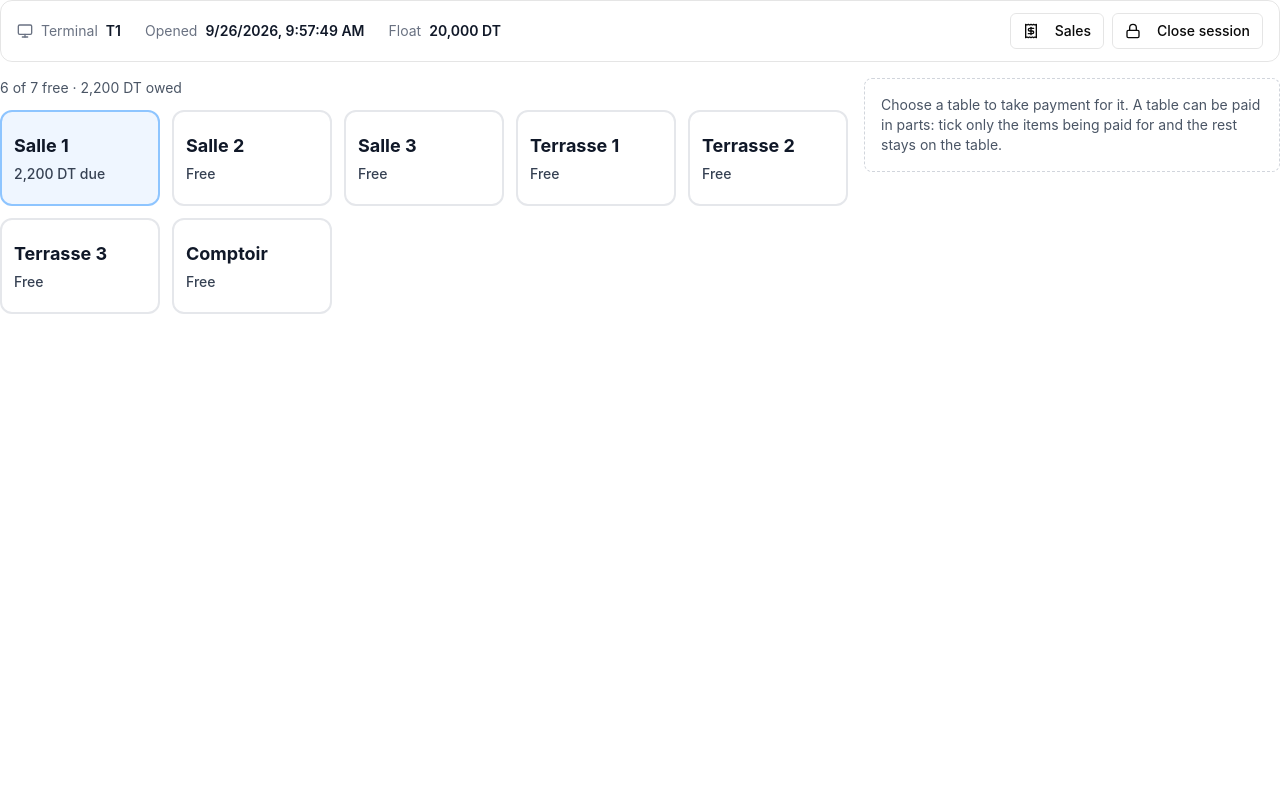
Test: paying a table › does not offer to cancel a table once part of it is paid
Click the button "Salle 1 2,200 DT due": (80, 158) [0,110,160,206]
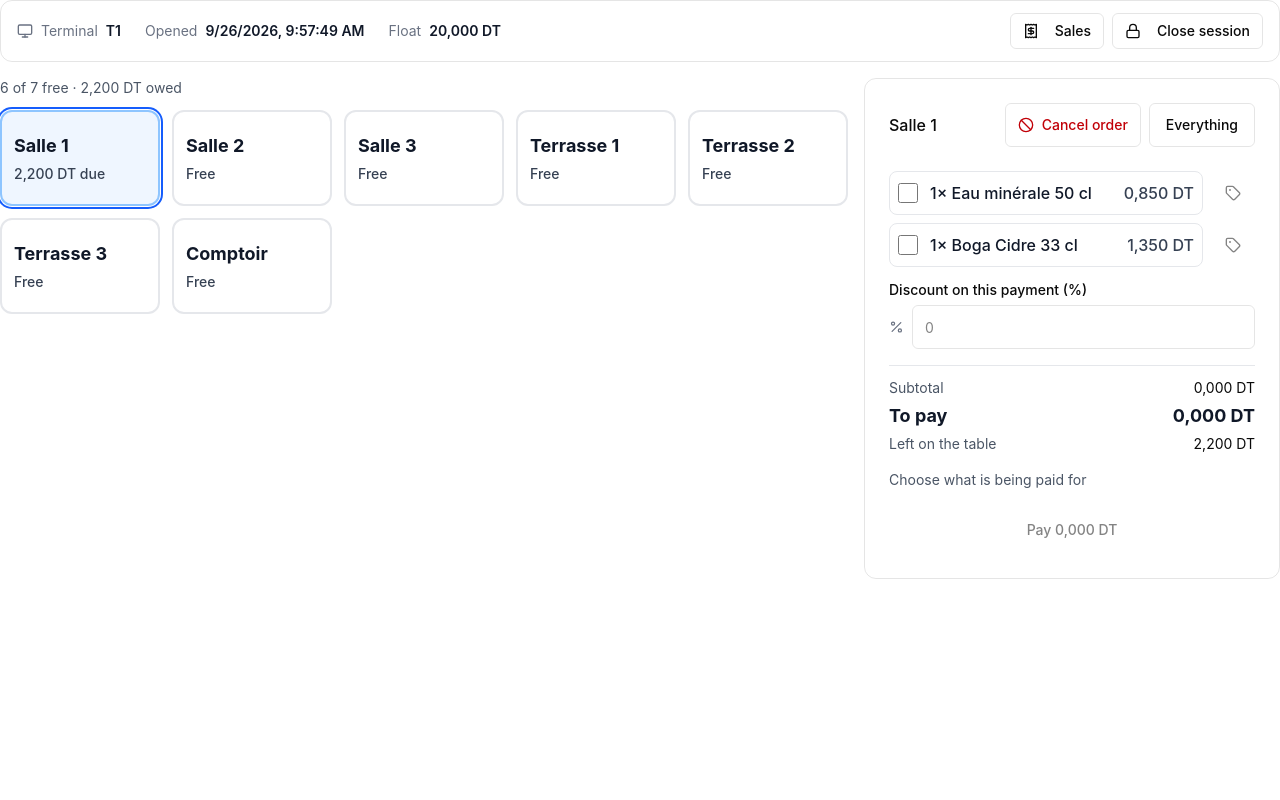
Check: the button "Cancel order" is shown, box [1005,103,1141,147]
Click the checkbox labelled "1× Eau minérale 50 cl 0,850 DT": (908, 193) [898,183,918,203]
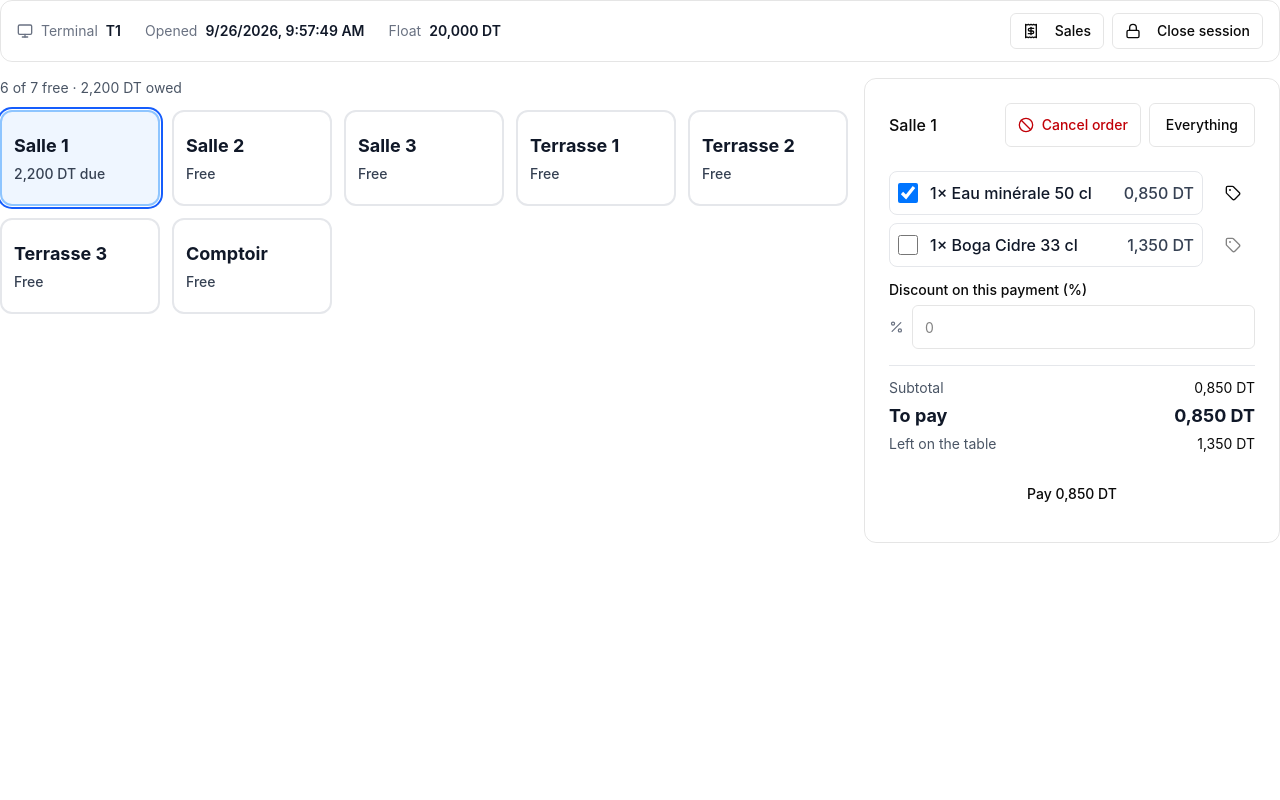
Click the button "Pay 0,850 DT": (1072, 494) [889,470,1255,518]
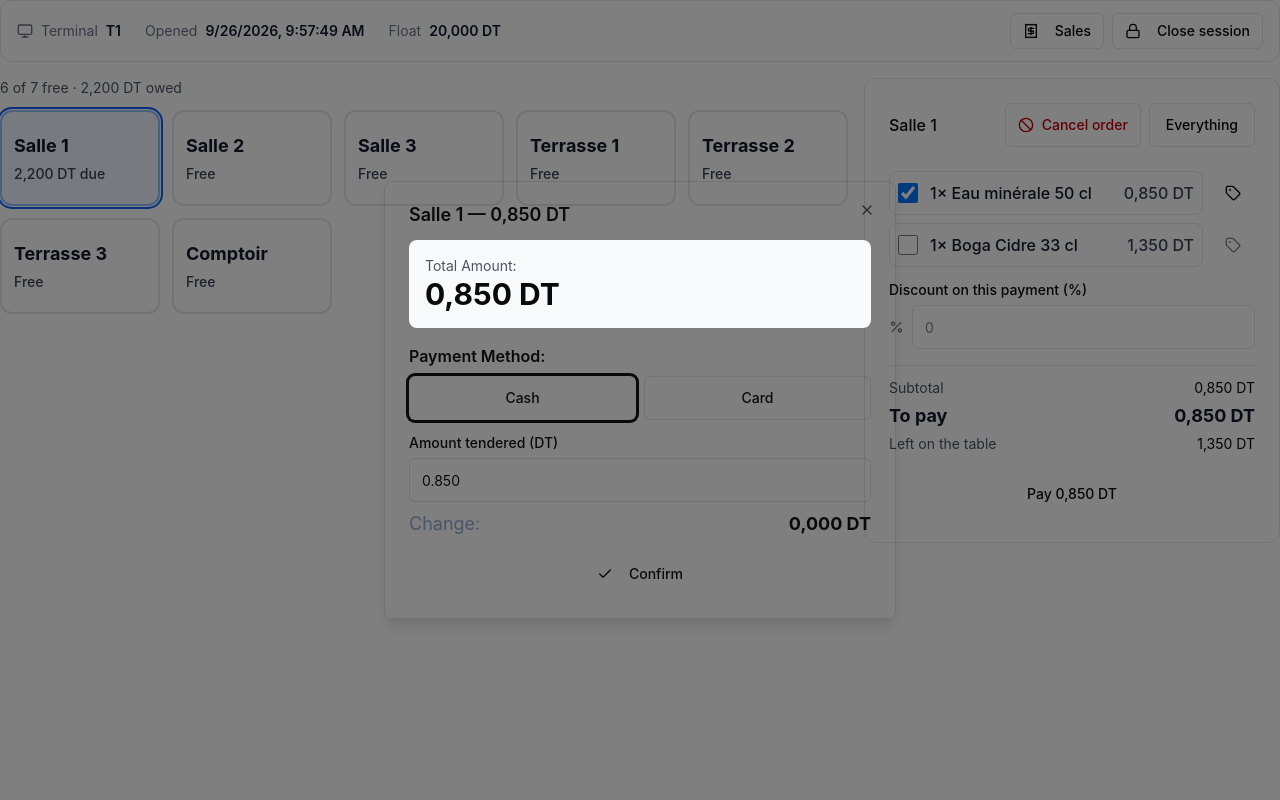
Click the button "Confirm": (640, 574) [409,554,871,594]
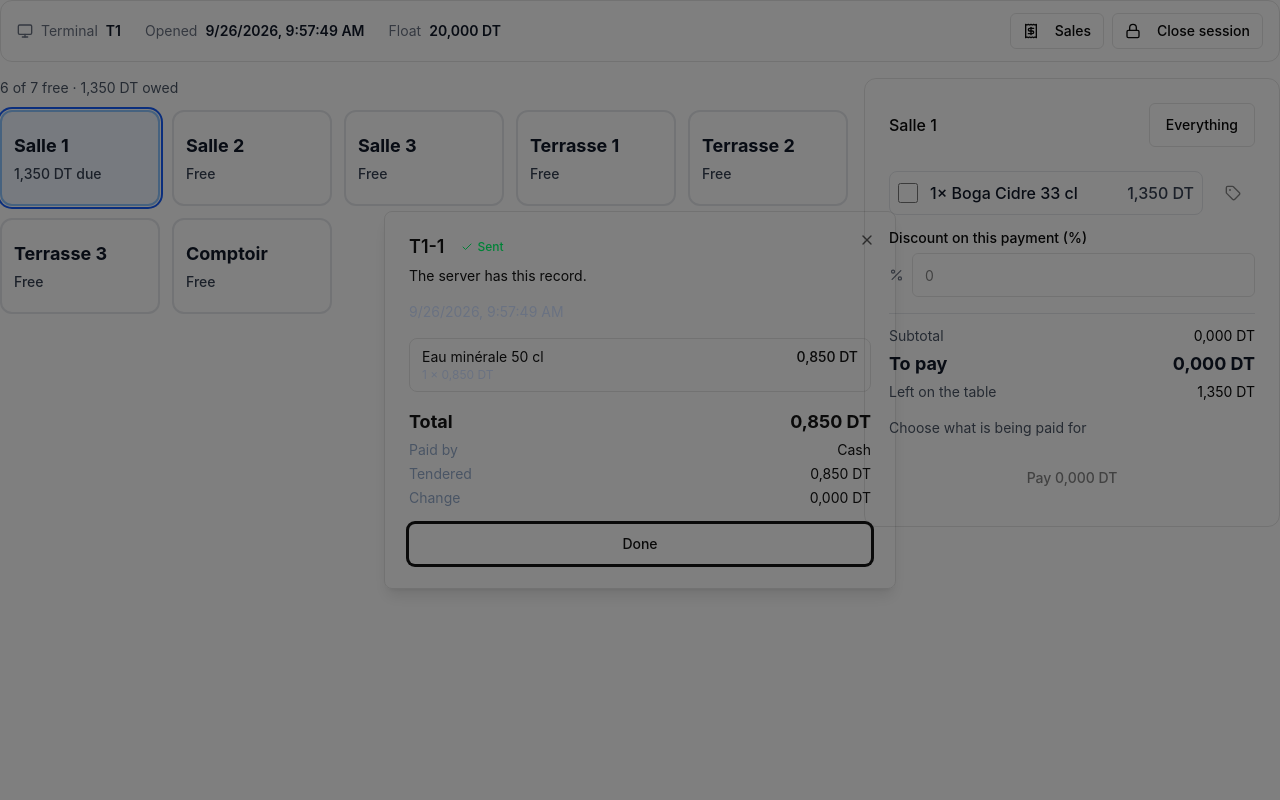
Check: the heading "T1-1 Sent" is shown, box [409,236,504,257]
Check: the button "Cancel order" is gone
